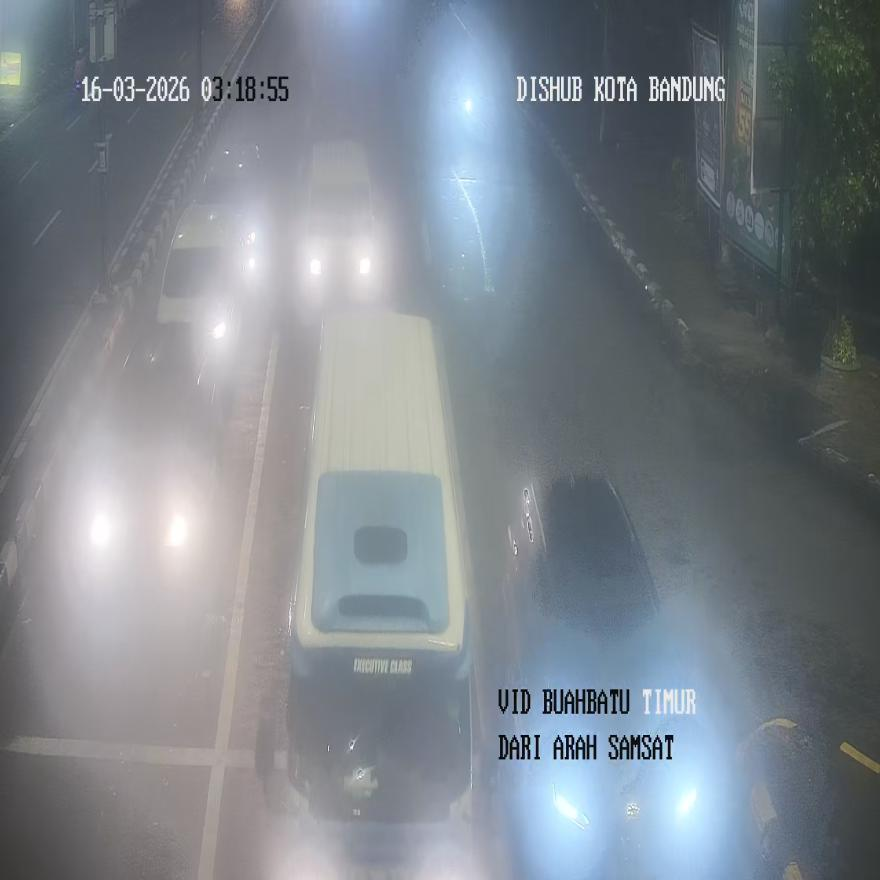Bis: (255, 312, 486, 874)
Motor: (497, 470, 722, 878), (66, 365, 221, 600), (298, 139, 381, 312)
